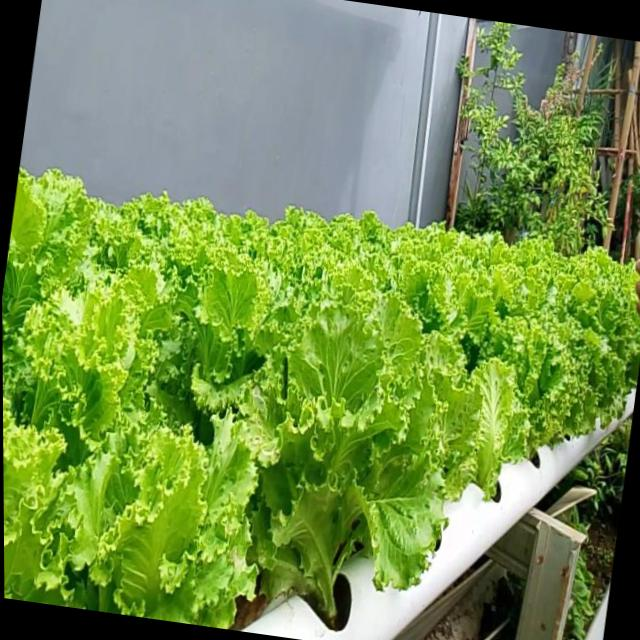Mature: (2, 176, 640, 638), (238, 310, 471, 637), (486, 317, 598, 476)
